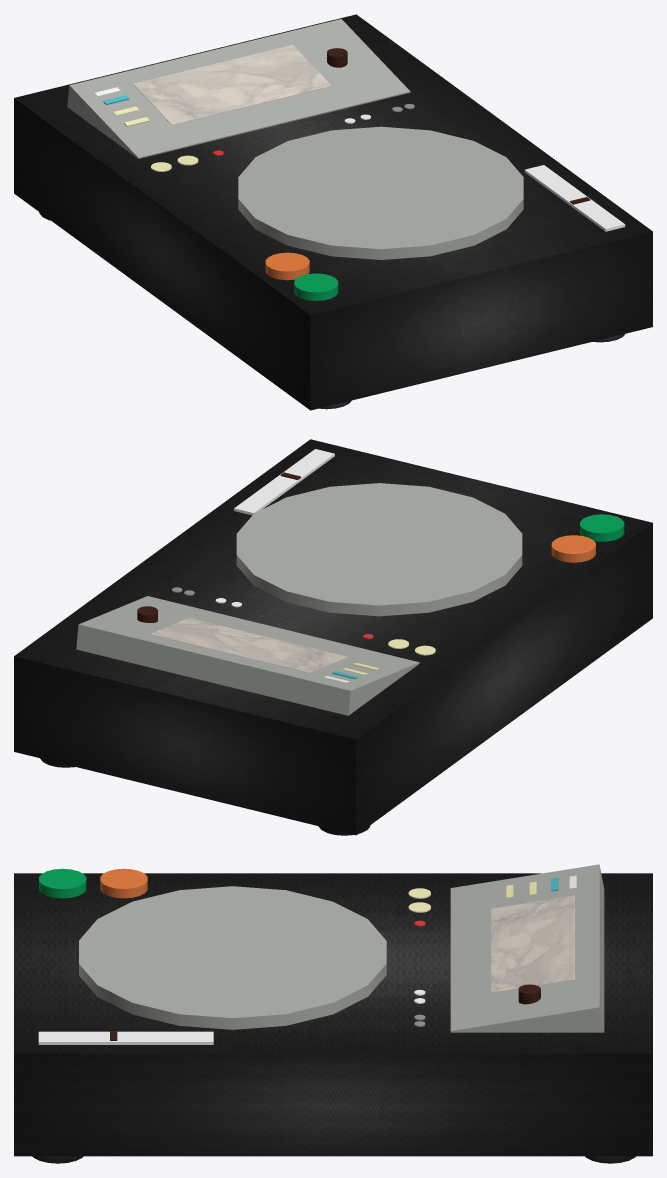
File: cdj.obj
3 renders of one model, top to bottom at view 1: azimuth 30°, elevation 25°; view 2: azimuth 150°, elevation 25°; view 3: azimuth 270°, elevation 25°, orthographic. The views are drawn at different scales.
Parts seen in each view (by area): view 1: Box001, Cylinder001, Box002, Box003, Box004, Cylinder003, Cylinder004; view 2: Box001, Cylinder001, Box002, Box003, Box004, Cylinder004, Cylinder003; view 3: Box001, Cylinder001, Box002, Box003, Box004, Cylinder004, Cylinder003.
Part boxes in pixels (x1,y1,x2,y2): Box001: (14, 14, 652, 410); Cylinder001: (238, 126, 523, 259); Box002: (67, 19, 410, 158); Box003: (133, 45, 331, 125); Box004: (524, 165, 625, 231); Cylinder003: (294, 273, 338, 300); Cylinder004: (265, 252, 309, 280); Box001: (14, 439, 652, 835); Cylinder001: (236, 483, 522, 616); Box002: (76, 596, 419, 715); Box003: (150, 618, 348, 673); Box004: (234, 449, 334, 515); Cylinder004: (551, 535, 595, 562); Cylinder003: (580, 514, 624, 541); Box001: (14, 873, 652, 1156); Cylinder001: (79, 886, 386, 1029); Box002: (450, 864, 604, 1032); Box003: (491, 895, 574, 992); Box004: (38, 1031, 213, 1044); Cylinder004: (100, 868, 147, 898); Cylinder003: (39, 868, 86, 898).
Size of the model in its own units: 30 by 10.91 by 45.
